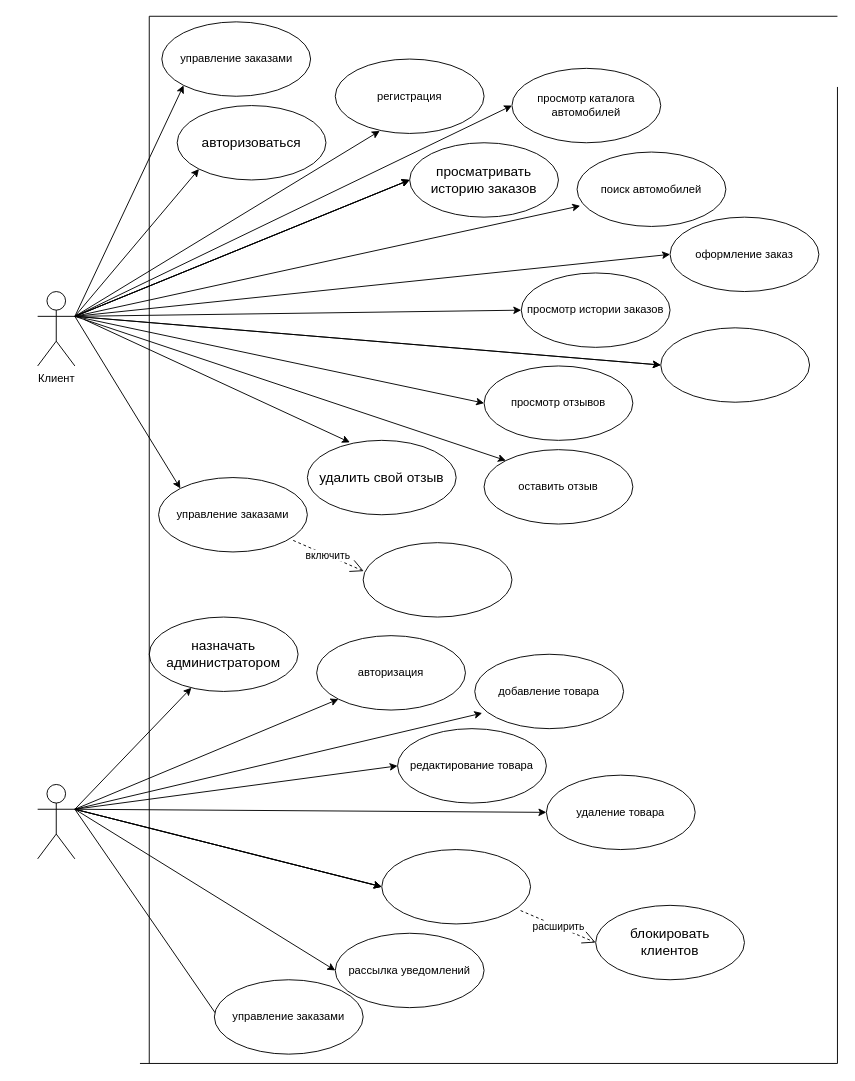
Image size: 855x1081. Some labels were removed from this diagram. The centre of each missing label's shape, as x and y in pixels:
"Администратор" belongs at (56,821).
"отмена заказа" belongs at (437,579).
"редактирование профиля" belongs at (735,364).
"управление пользователями" belongs at (456,886).
